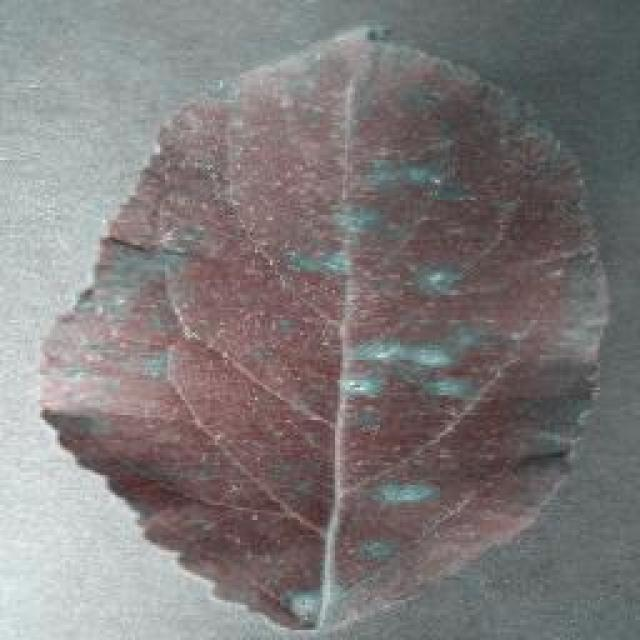apple cedar apple rust: (35, 25, 613, 630)
